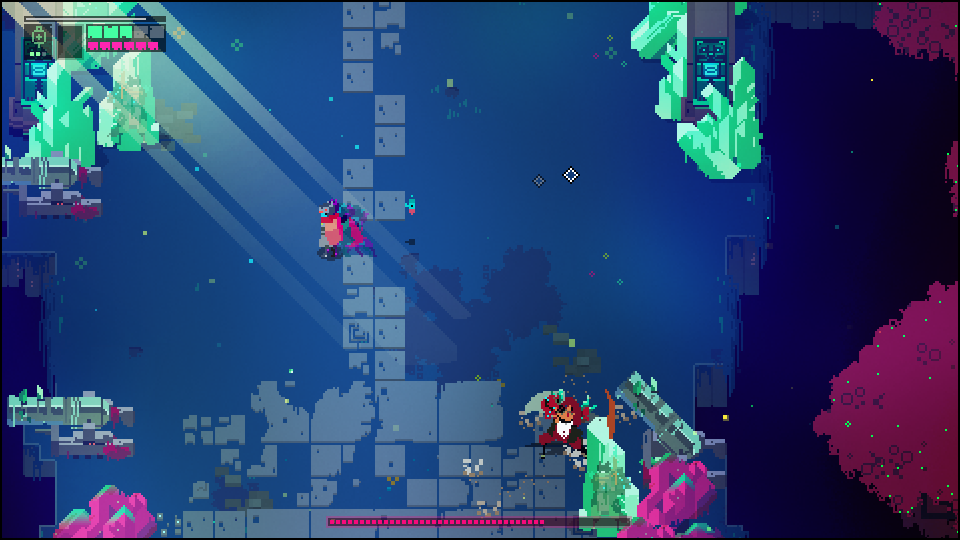hanged_man: (524, 382, 618, 461)
player: (316, 201, 345, 263)
